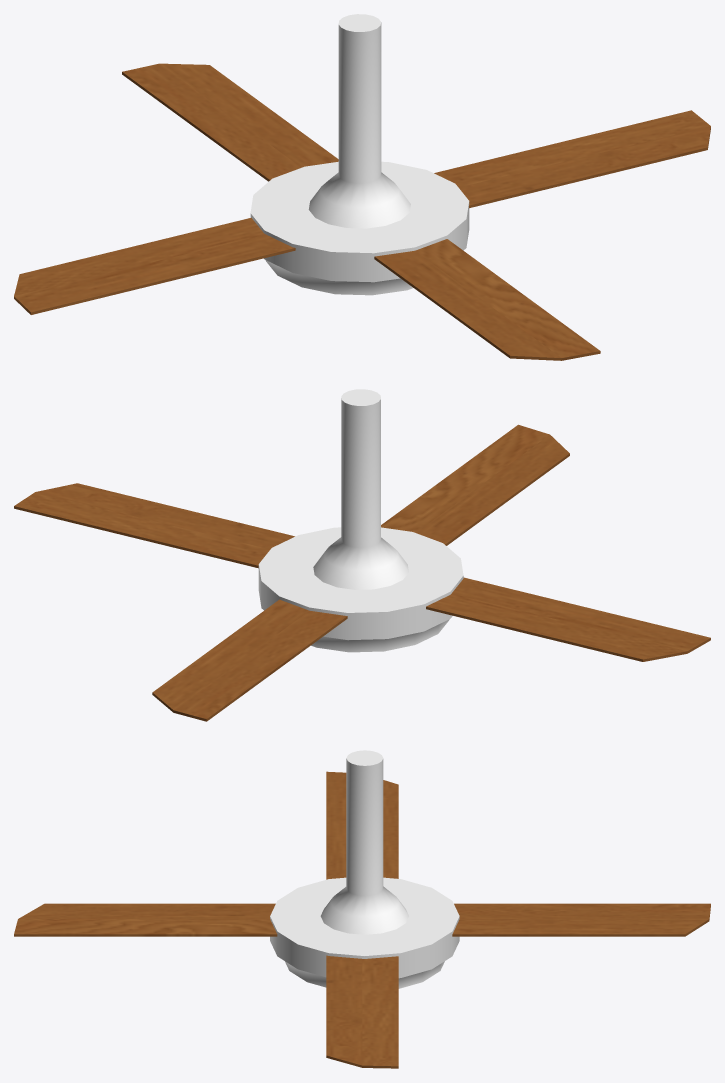
The model's file is ceilingFan.fbx.
3 views of the same model, one above another, from view 1: azimuth 30°, elevation 25°; view 2: azimuth 150°, elevation 25°; view 3: azimuth 270°, elevation 25° (orthographic). The views are drawn at different scales.
Visible parts, largest first — view 1: fanCenter, fanBlade, fanBlade2; view 2: fanCenter, fanBlade, fanBlade2; view 3: fanCenter, fanBlade2, fanBlade.
Part boxes in pixels (x1,y1,x2,y2): fanCenter: [250, 14, 469, 295]; fanBlade: [14, 110, 710, 314]; fanBlade2: [122, 63, 600, 360]; fanCenter: [258, 389, 463, 652]; fanBlade: [14, 483, 710, 661]; fanBlade2: [152, 424, 569, 721]; fanCenter: [270, 750, 459, 988]; fanBlade2: [14, 903, 710, 936]; fanBlade: [326, 771, 398, 1068].
Size of the model in its own units: 2.02 by 0.6445 by 2.02.
